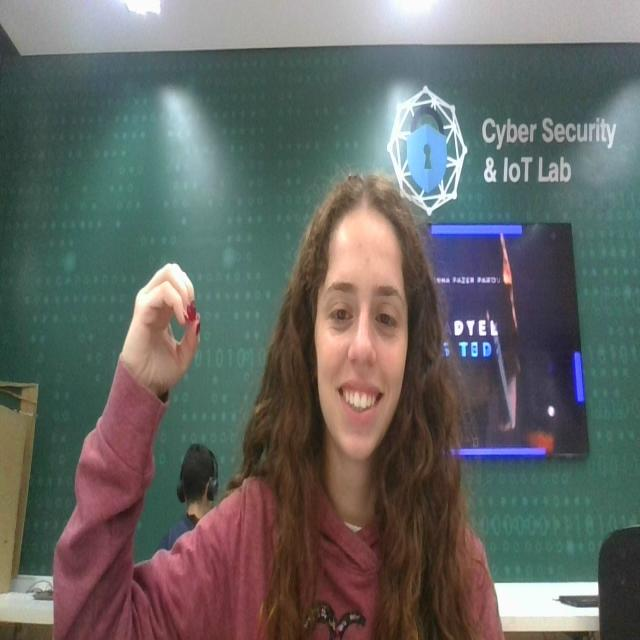O: (112, 258, 208, 402)
